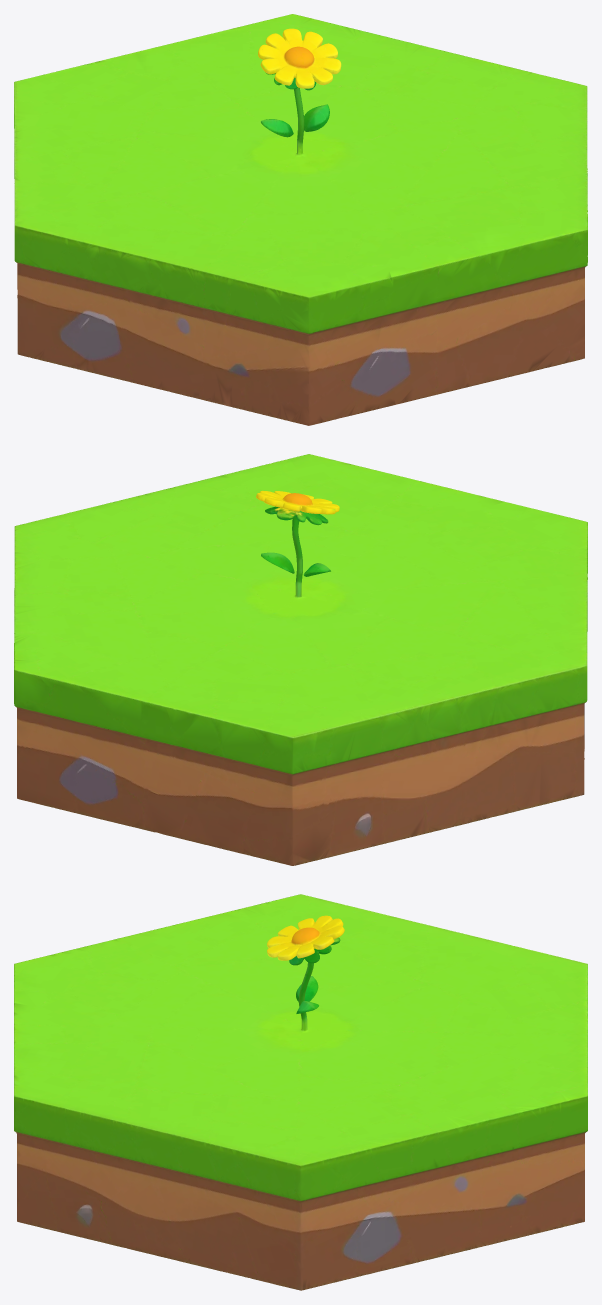
Rendered from meadowtile_lv1.glb.
The picture shows the model from 3 angles, top to bottom: view 1: azimuth 30°, elevation 25°; view 2: azimuth 150°, elevation 25°; view 3: azimuth 270°, elevation 25°; orthographic projection. The views are drawn at different scales.
Bounding box in the file's own units: 1.9 × 0.924 × 1.69.
1 material, 1 textured.
